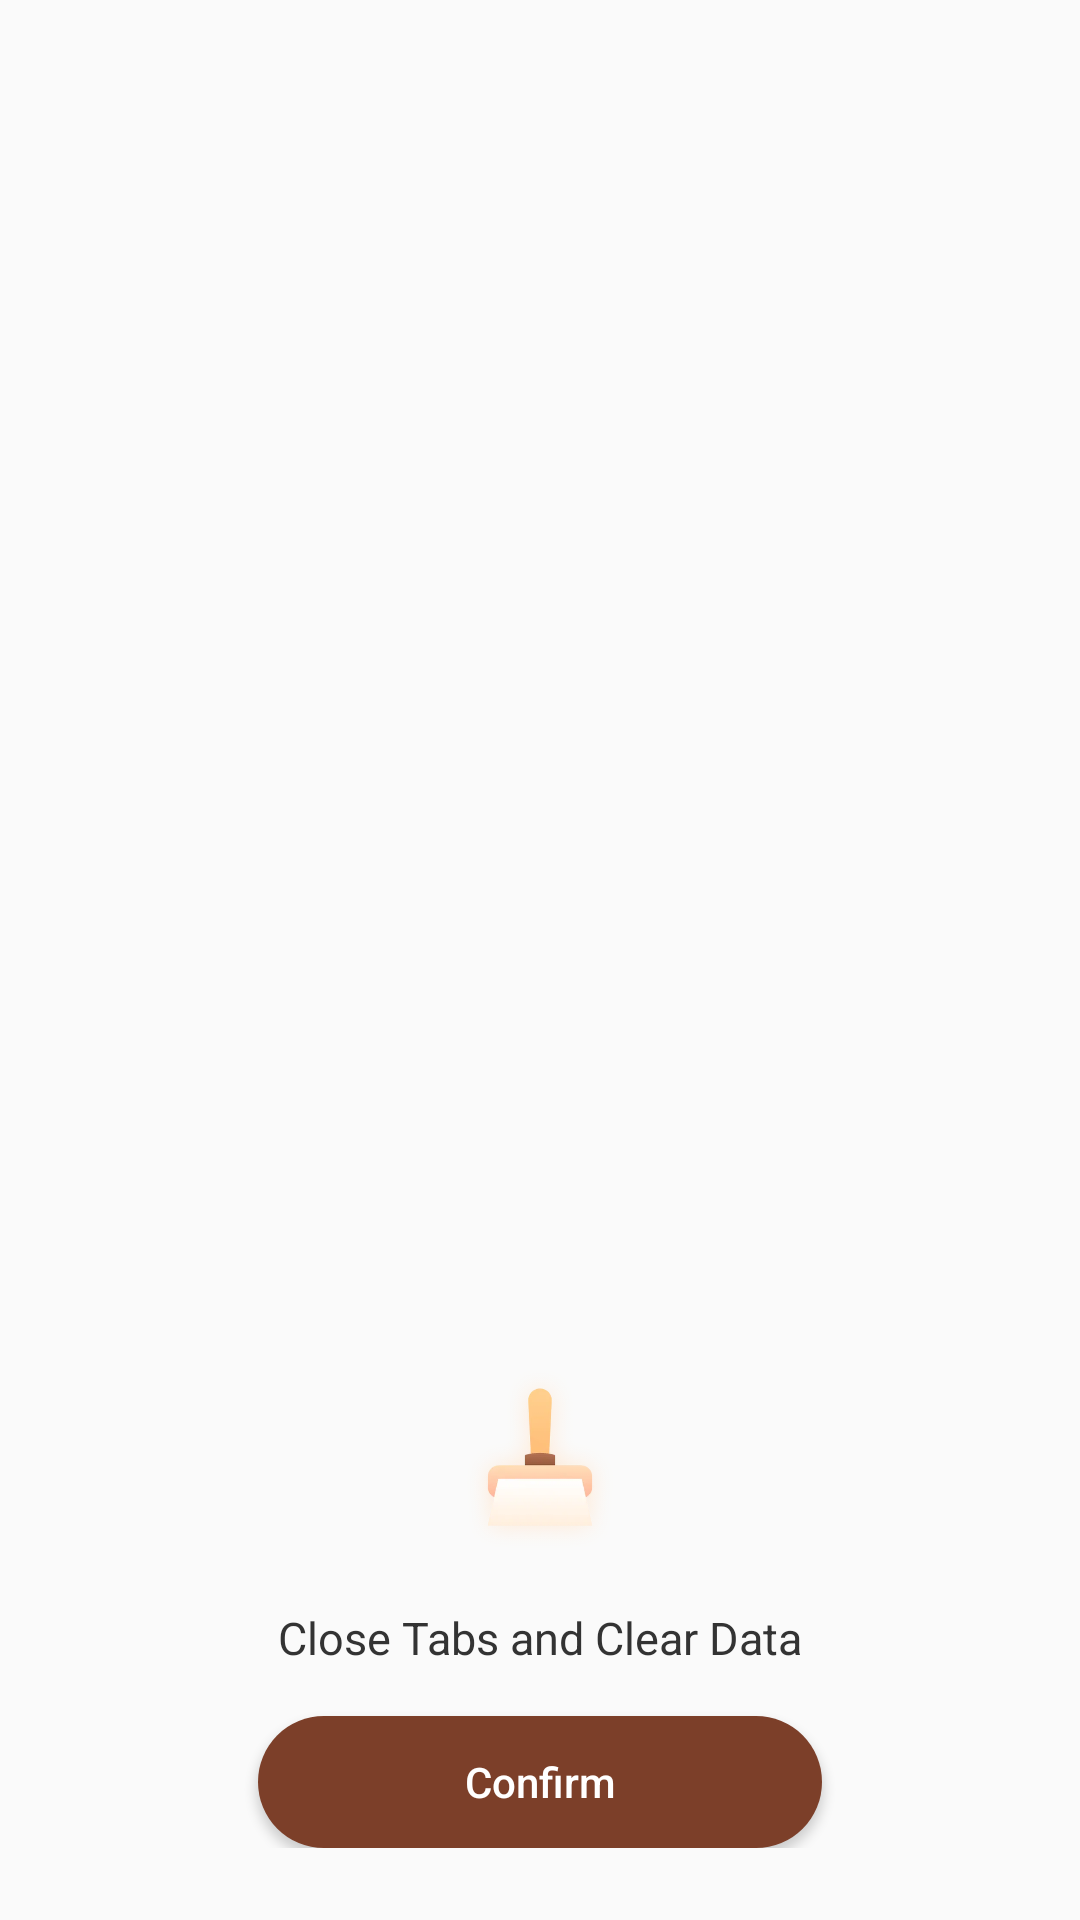

Where icons sit on this 1080 x 1920 app screen, as {"left": x1, "top": y1, "right": x2, "bottom": y2}:
clean tool: {"left": 488, "top": 1388, "right": 592, "bottom": 1526}
